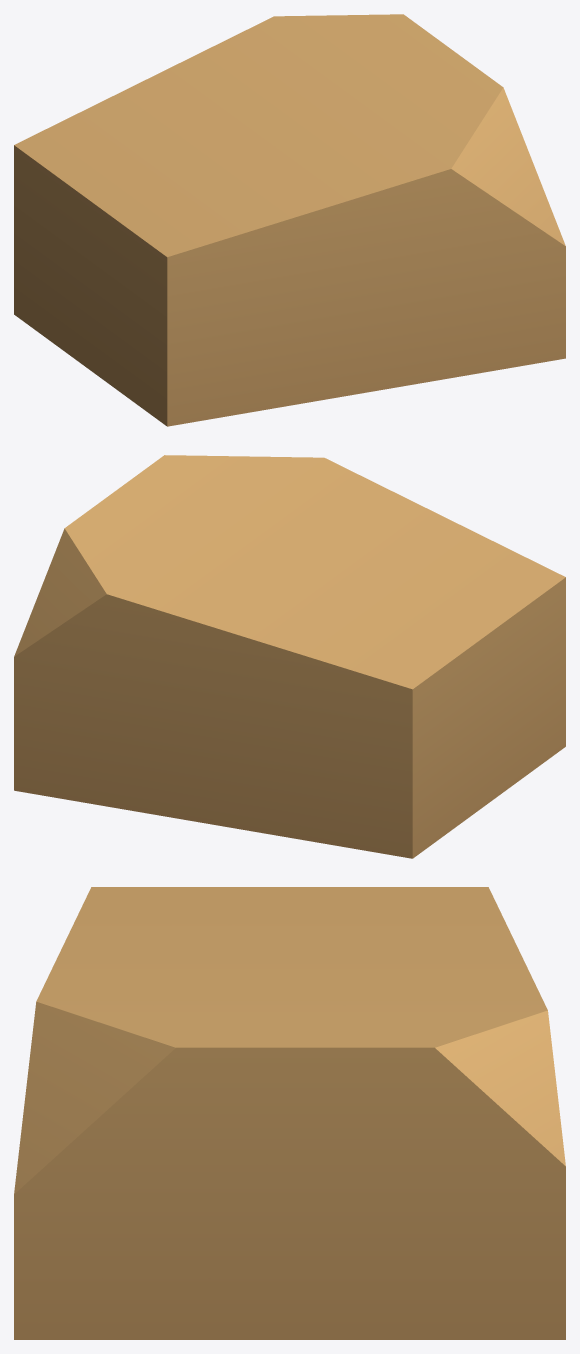
Rendered from desert stone small 8.fbx.
3 renders of one model, top to bottom at view 1: azimuth 30°, elevation 25°; view 2: azimuth 150°, elevation 25°; view 3: azimuth 270°, elevation 25°, orthographic. The views are drawn at different scales.
Parts seen in each view (by area): view 1: desert stone small 8; view 2: desert stone small 8; view 3: desert stone small 8.
Boxes of the visible parts, box(x1,y1,x2,y2) form: desert stone small 8: box(14, 14, 565, 426); desert stone small 8: box(14, 455, 565, 858); desert stone small 8: box(14, 887, 565, 1339).
Size of the model in its own units: 136 by 79.17 by 136.
